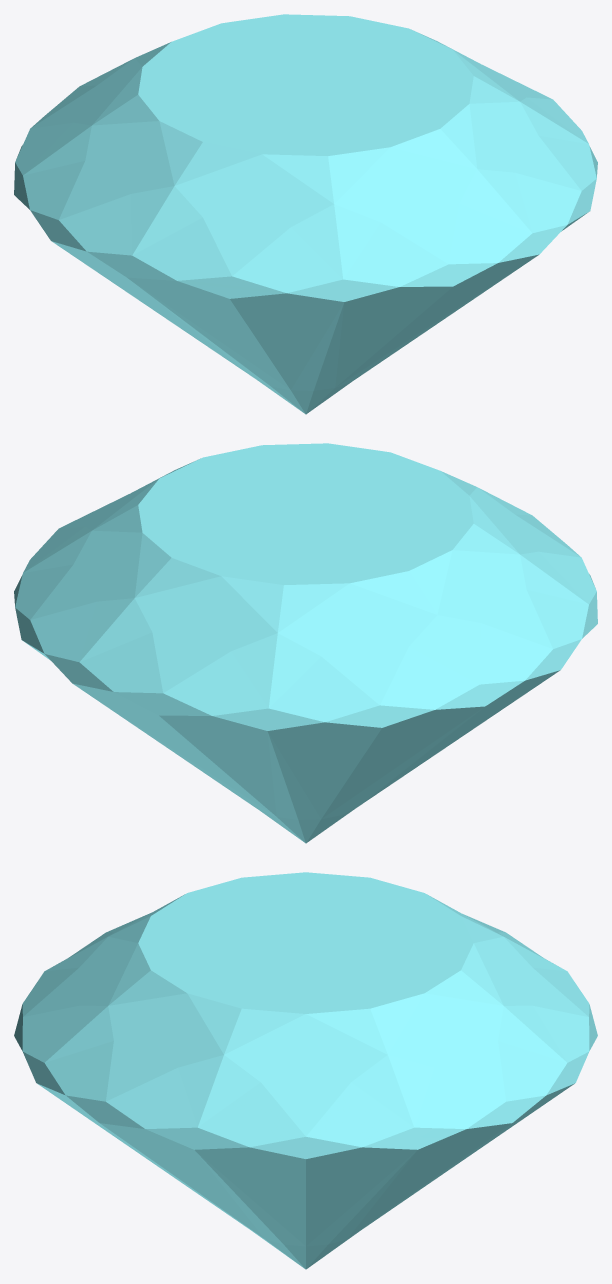
File: diamond.obj
3 views of the same model, one above another, from view 1: azimuth 30°, elevation 25°; view 2: azimuth 150°, elevation 25°; view 3: azimuth 270°, elevation 25° (orthographic).
Visible parts, largest first — view 1: pCone1; view 2: pCone1; view 3: pCone1.
Boxes of the visible parts, <box> form: pCone1: <box>14,14,597,414</box>; pCone1: <box>14,443,597,843</box>; pCone1: <box>14,872,597,1269</box>.
Bounding box in the file's own units: 0.02 × 0.0123 × 0.02.
